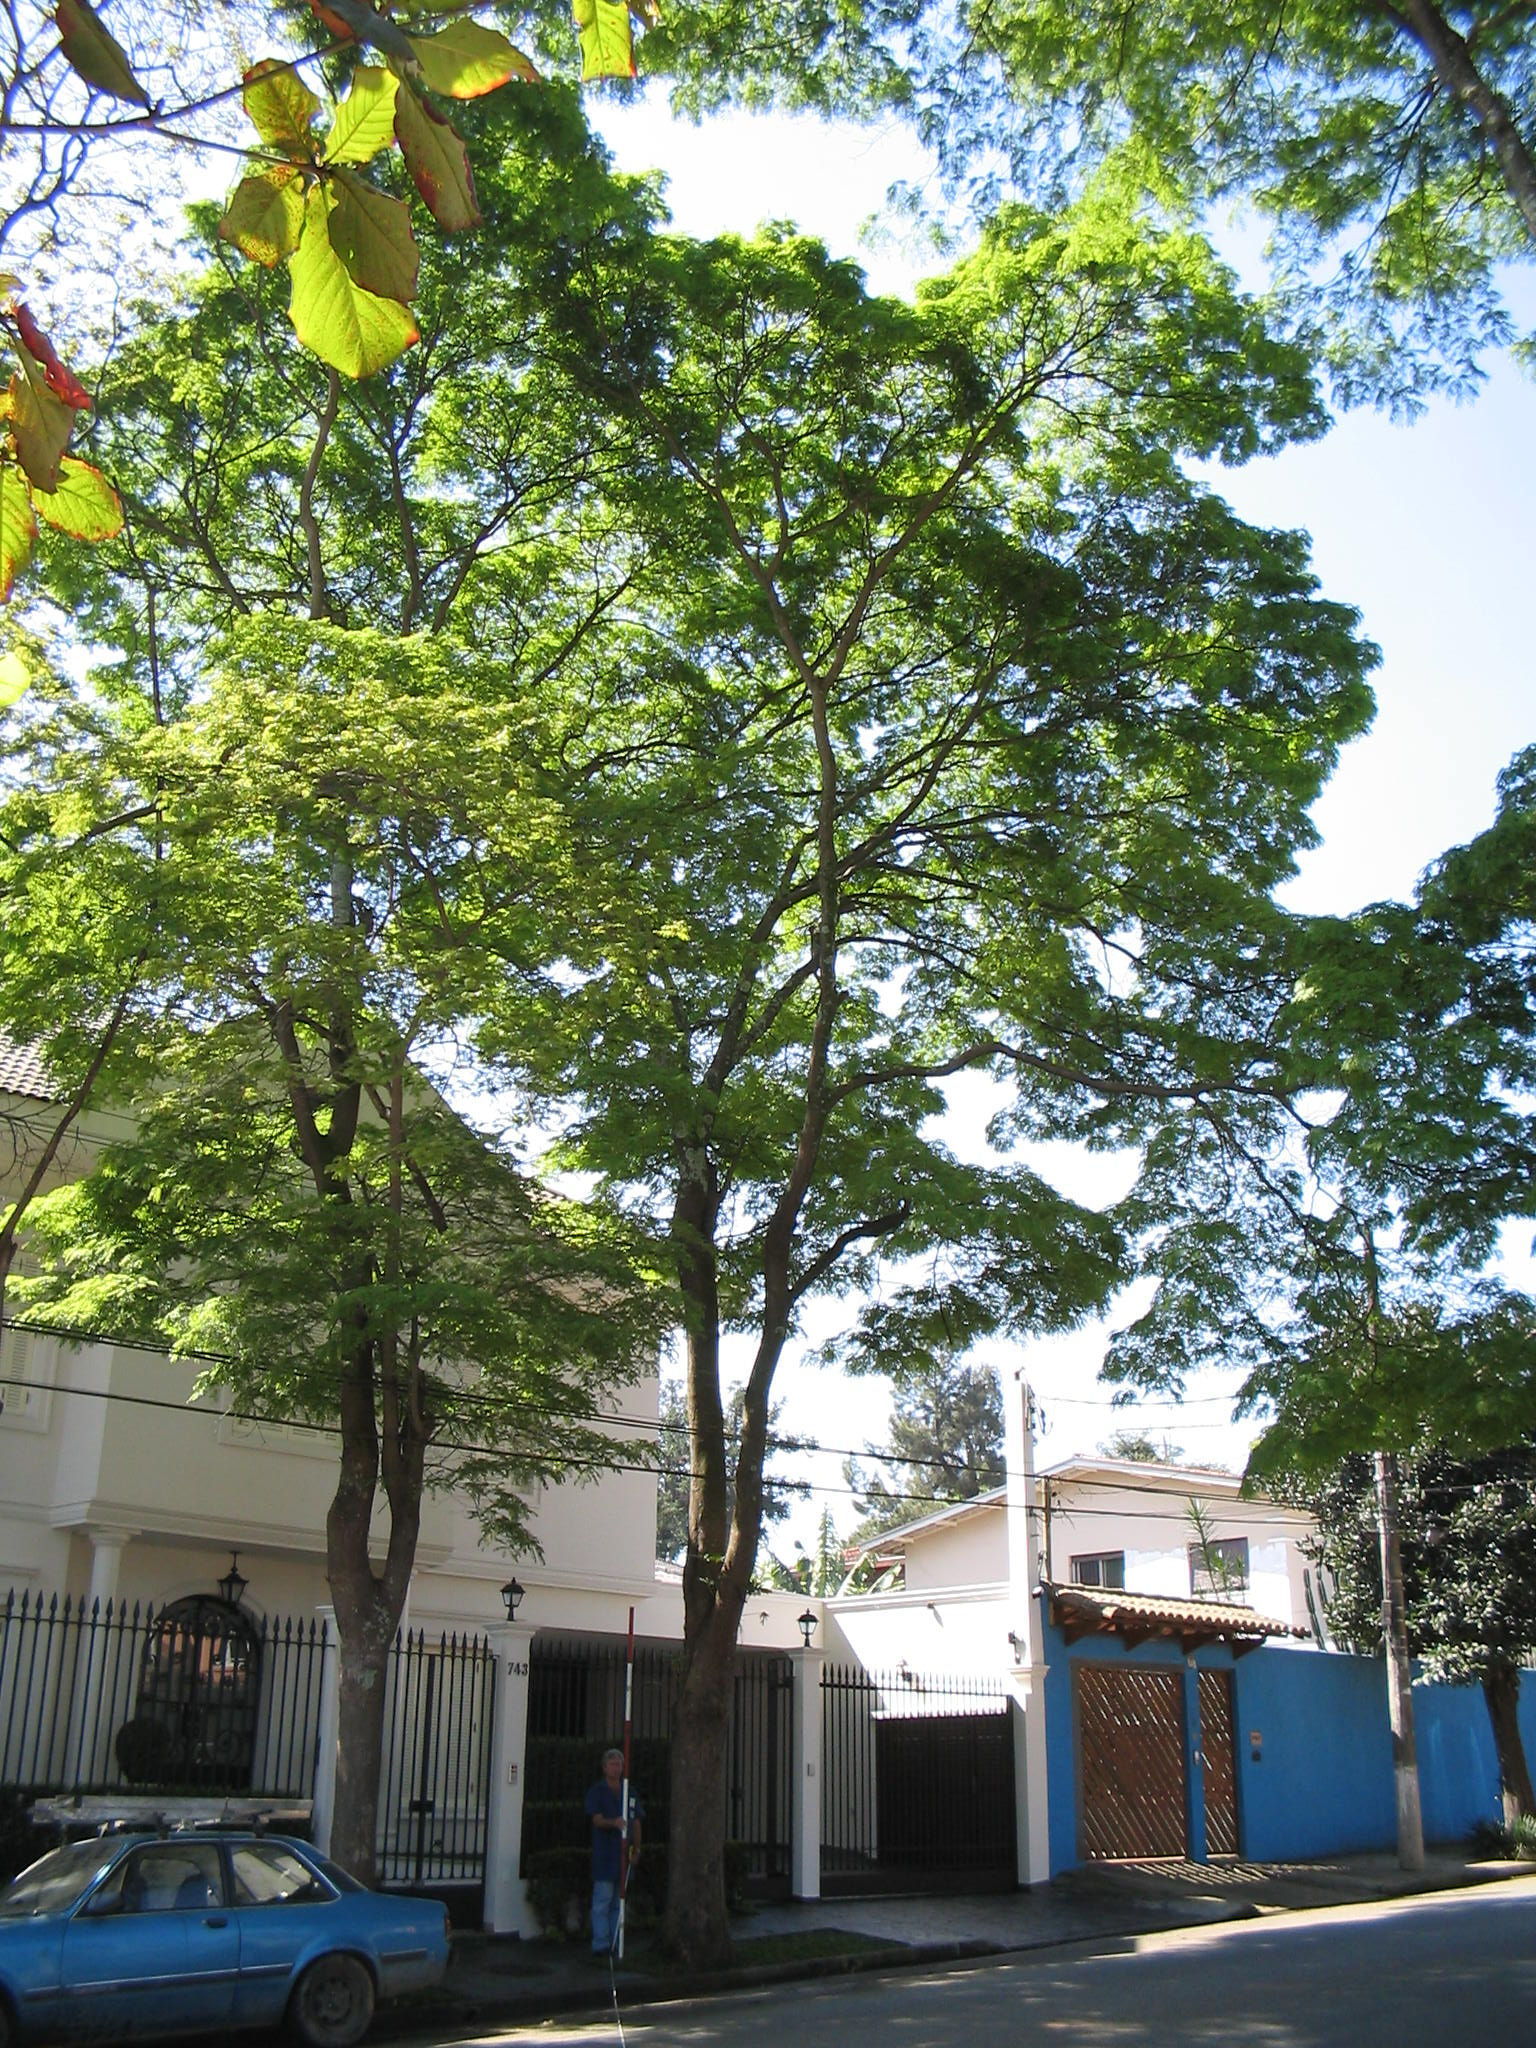crown: (428, 192, 1373, 1429), (23, 79, 657, 1466), (1315, 1442, 1536, 1706), (1460, 1687, 1533, 1861)
stem: (298, 1646, 428, 1971), (644, 1655, 765, 1967)
stick: (600, 1600, 645, 1967)
tree: (416, 184, 1381, 1975), (10, 79, 660, 1979), (1307, 1437, 1536, 1863)
